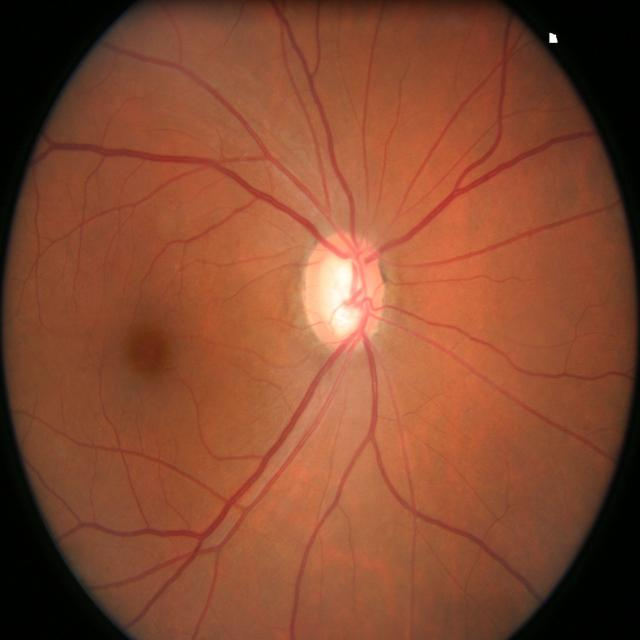OC: (316, 254, 374, 334)
OD: (303, 233, 388, 349)
